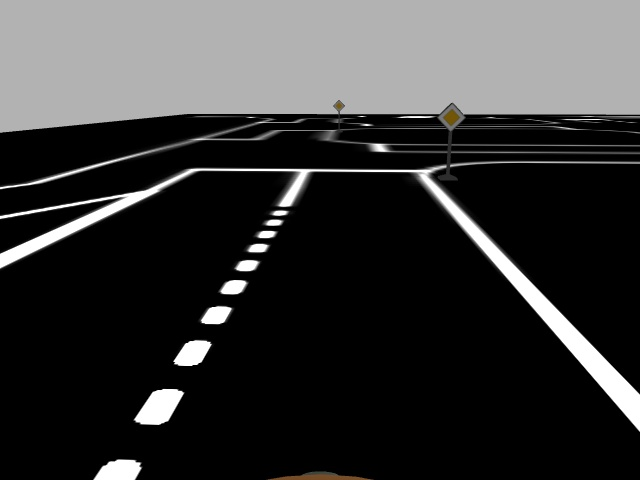priority: (436, 101, 466, 131)
